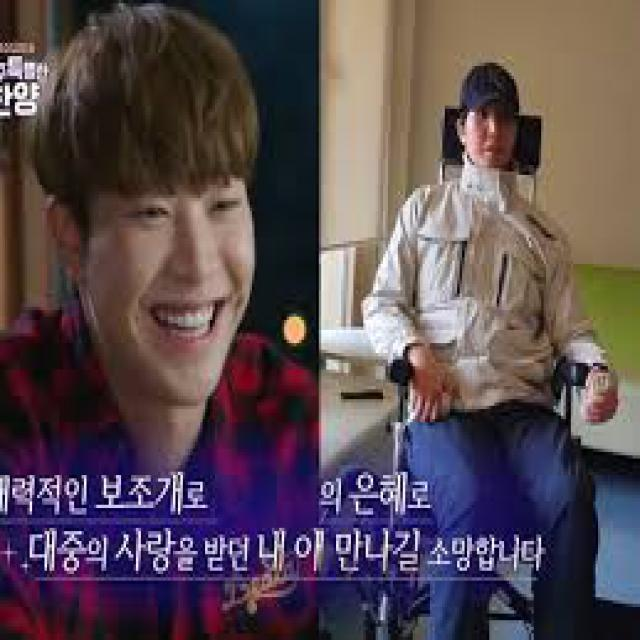wheelchairs: (358, 254, 608, 587)
